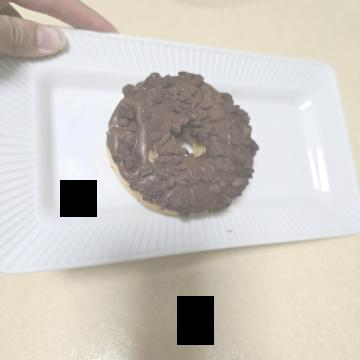doughnut: (64, 90, 236, 260)
